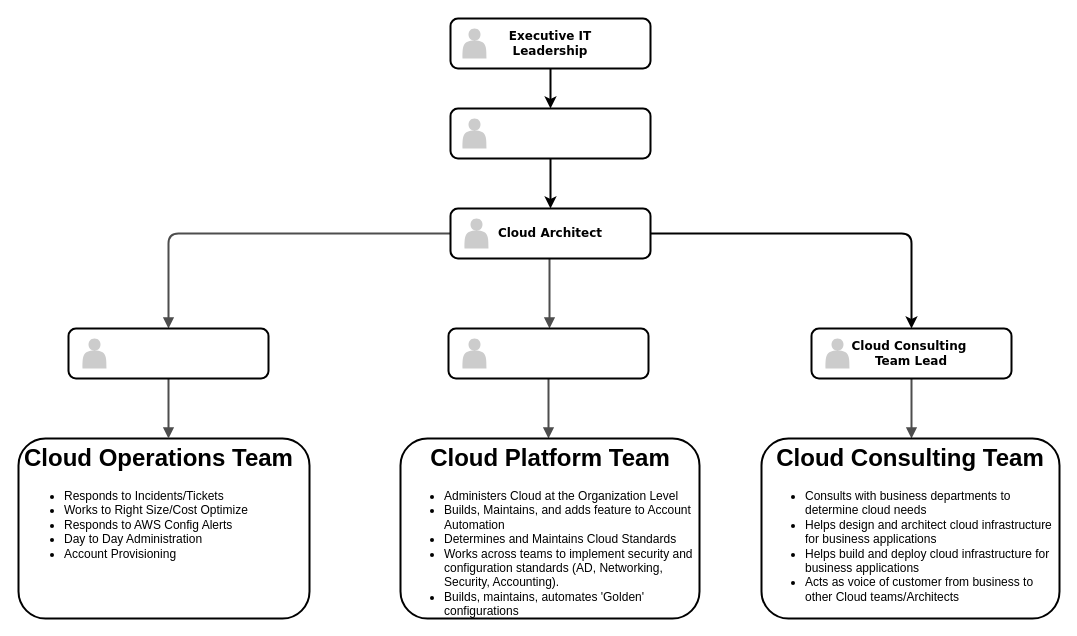
Image size: 1077x636. Some labels were removed from this diagram. The box of each missing label's shape, as (x1, y1, x2, y2) in pixels:
Cloud Operations Team Lead: (67, 327, 269, 379)
Cloud Platform Team Lead: (447, 327, 649, 379)
Enterprise IT Architect: (449, 107, 651, 159)
